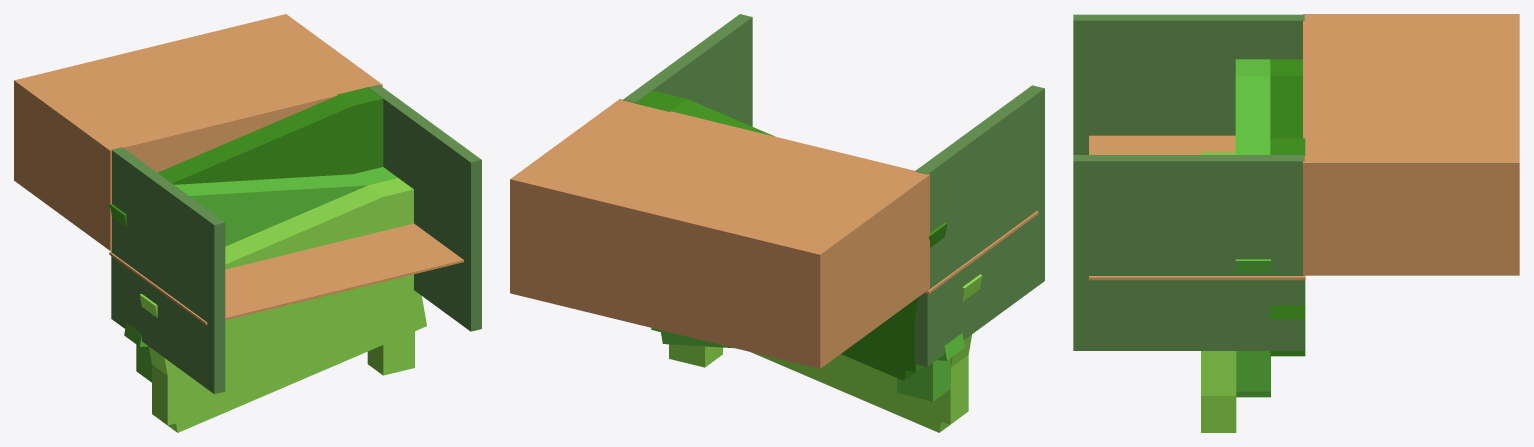
File: stageTestMerged.fbx
3 renders of one model, left to right at view 1: azimuth 30°, elevation 25°; view 2: azimuth 150°, elevation 25°; view 3: azimuth 270°, elevation 25°, orthographic. The views are drawn at different scales.
Parts seen in each view (by area): view 1: Flat.002; view 2: Flat.002; view 3: Flat.002.
Boxes of the visible parts, bbox=[...] form: Flat.002: bbox=[14, 14, 481, 432]; Flat.002: bbox=[510, 14, 1044, 432]; Flat.002: bbox=[1073, 14, 1519, 432].
Bounding box in the file's own units: 4912 × 4377 × 6199.
